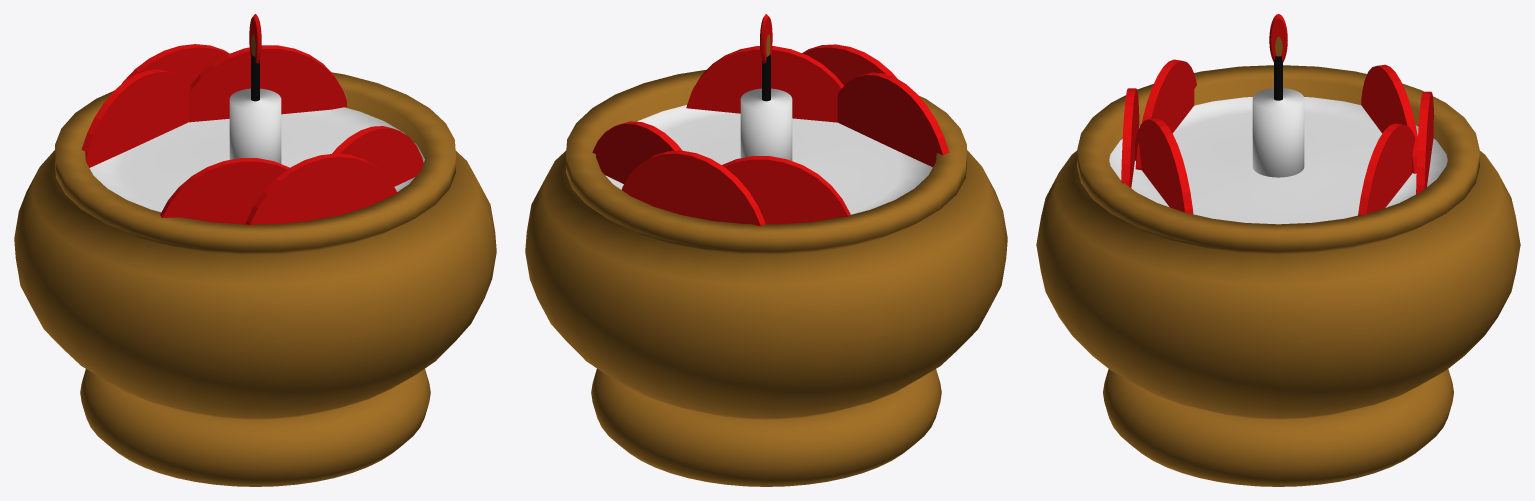
Rendered from incense.glb.
3 views of the same model, side by side, from view 1: azimuth 30°, elevation 25°; view 2: azimuth 150°, elevation 25°; view 3: azimuth 270°, elevation 25° (orthographic).
Visible parts, largest first — view 1: Torus; view 2: Torus; view 3: Torus.
Boxes of the visible parts, bbox=[...] form: Torus: bbox=[14, 14, 496, 486]; Torus: bbox=[525, 14, 1007, 486]; Torus: bbox=[1036, 14, 1520, 486].
Bounding box in the file's own units: 2.09 × 1.96 × 2.09.
